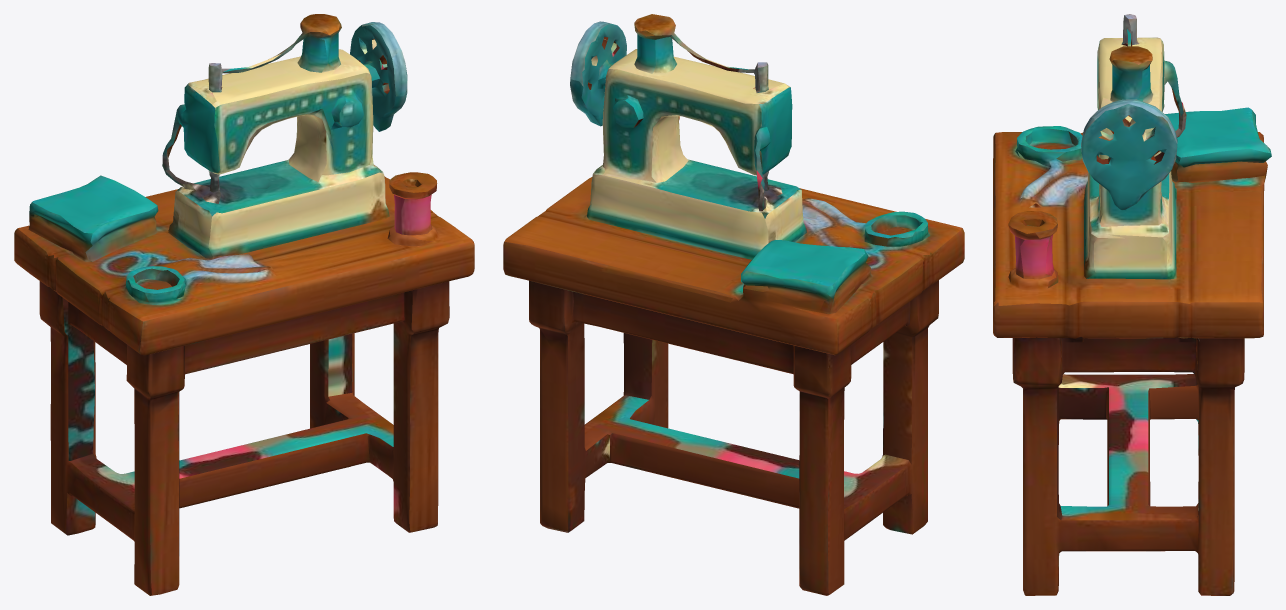
File: sewing_table.glb
3 views of the same model, side by side, from view 1: azimuth 30°, elevation 25°; view 2: azimuth 150°, elevation 25°; view 3: azimuth 270°, elevation 25° (orthographic). The views are drawn at different scales.
Parts seen in each view (by area): view 1: sewing_table2; view 2: sewing_table2; view 3: sewing_table2.
Boxes of the visible parts, x1,y1,x2,y2 form: sewing_table2: [14, 14, 474, 595]; sewing_table2: [503, 14, 964, 595]; sewing_table2: [993, 14, 1271, 595].
Size of the model in its own units: 0.7237 by 1 by 0.4959.
1 material, 1 textured.
